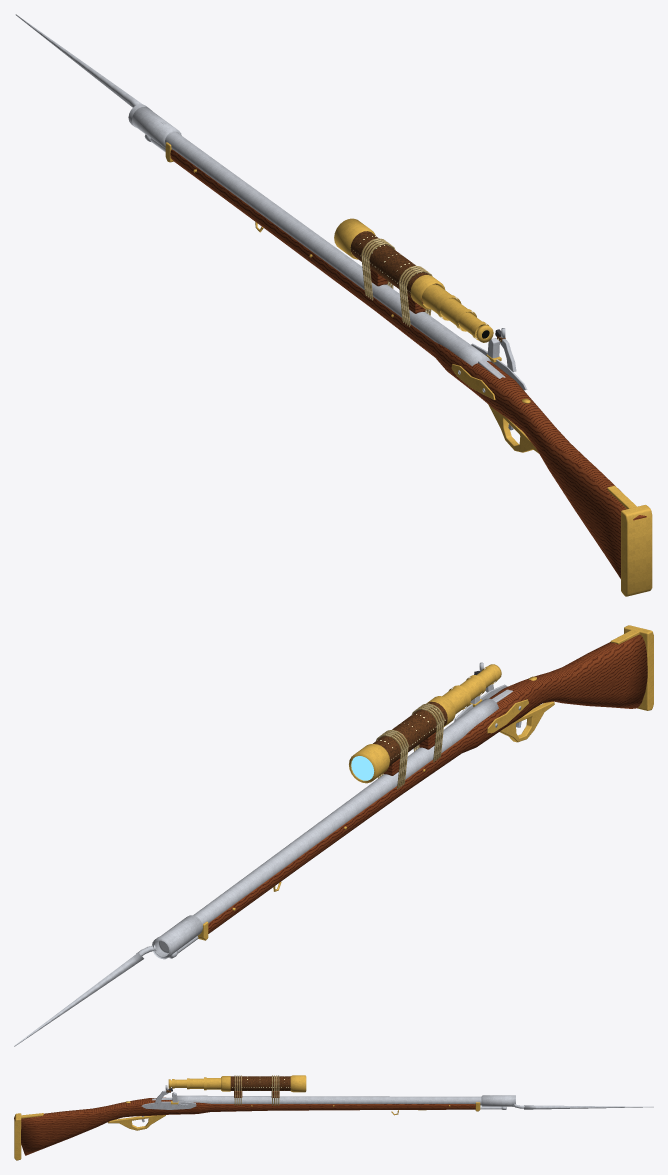
The model's file is w_sniper_musket.glb.
3 renders of one model, top to bottom at view 1: azimuth 30°, elevation 25°; view 2: azimuth 150°, elevation 25°; view 3: azimuth 270°, elevation 25°, orthographic. The views are drawn at different scales.
Parts seen in each view (by area): view 1: musket_body_wzA, musket_body_wzB, musket_body_wzN; view 2: musket_body_wzA, musket_body_wzB, musket_body_wzN; view 3: musket_body_wzA, musket_body_wzB, musket_body_wzN.
Boxes of the visible parts, box(x1,y1,x2,y2) form: musket_body_wzA: box(165, 142, 652, 596); musket_body_wzB: box(15, 14, 505, 366); musket_body_wzN: box(361, 238, 501, 338); musket_body_wzA: box(198, 625, 653, 940); musket_body_wzB: box(14, 698, 498, 1046); musket_body_wzN: box(351, 671, 480, 789); musket_body_wzA: box(14, 1075, 480, 1160); musket_body_wzB: box(166, 1076, 653, 1109); musket_body_wzN: box(168, 1075, 279, 1105).
Bounding box in the file's own units: 0.0832 × 0.3648 × 2.59.
8 materials, 5 textured.
